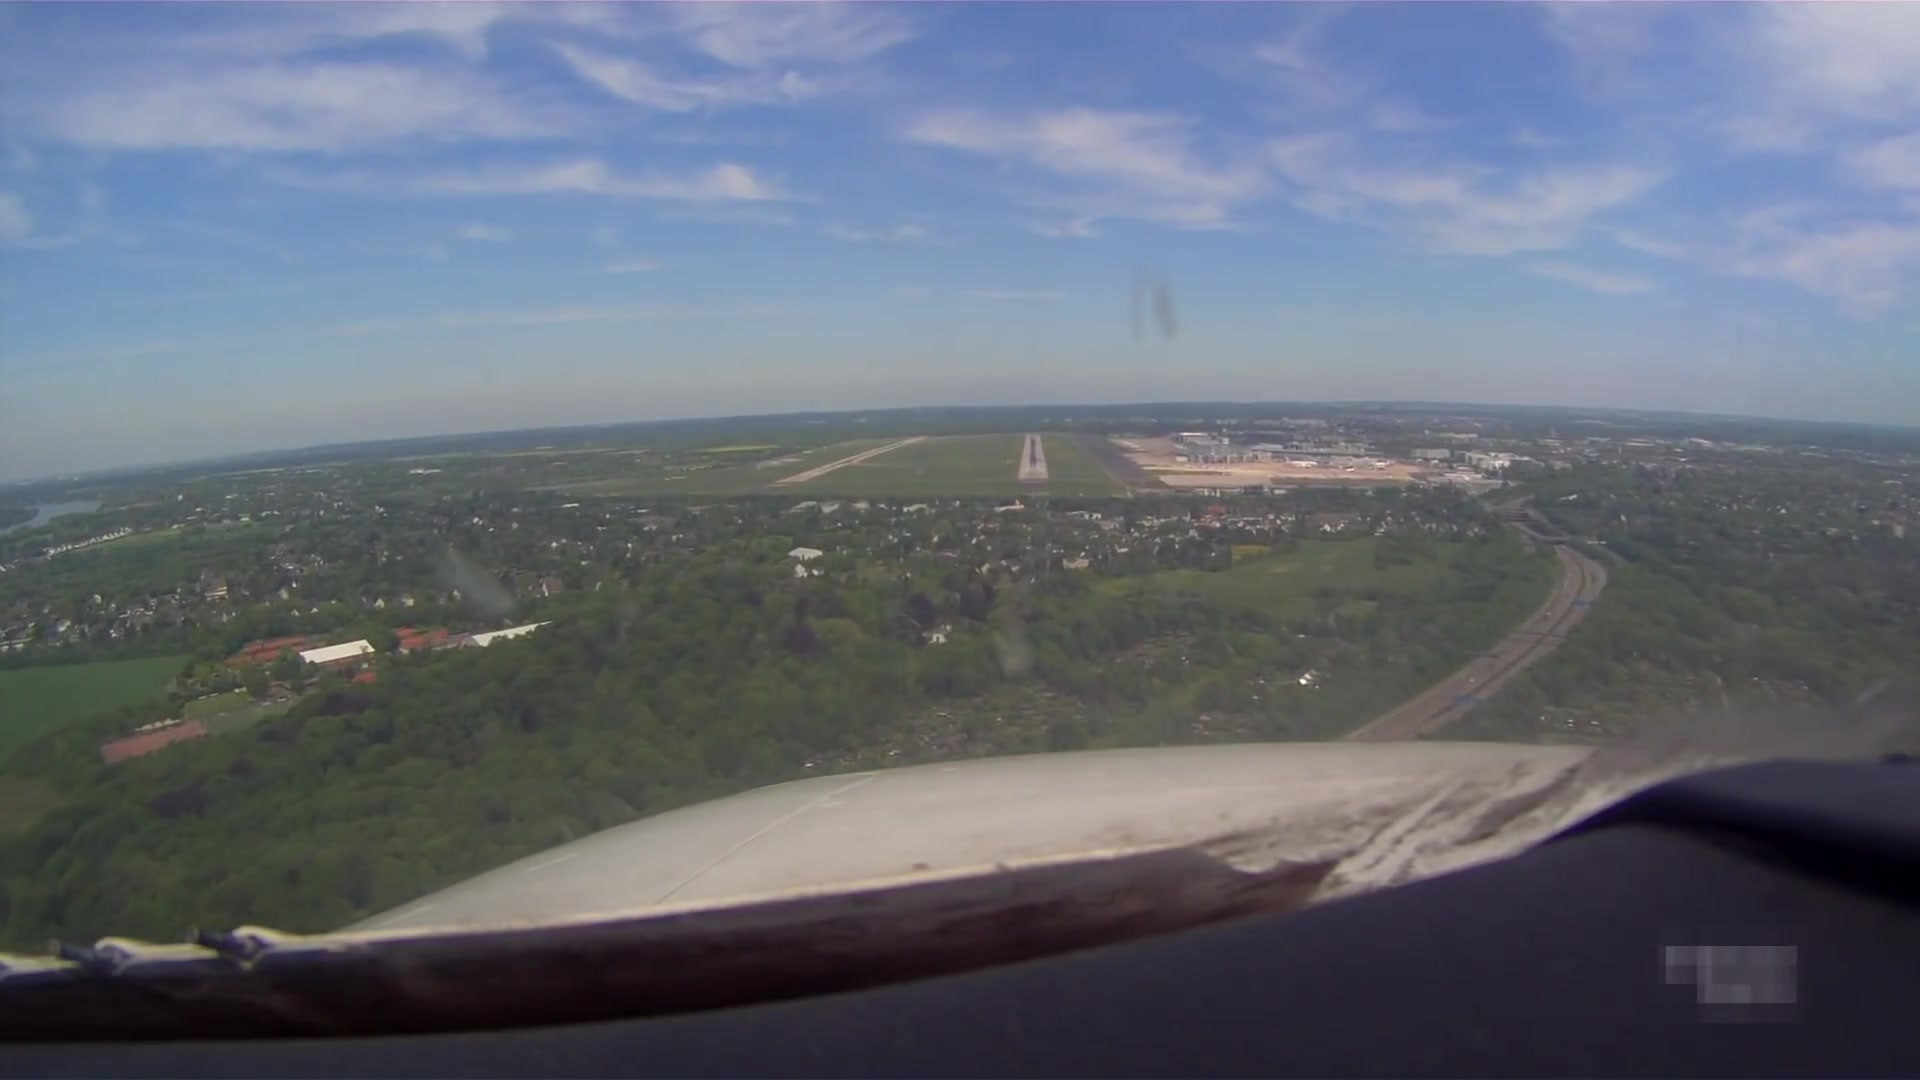runway: (775, 433, 927, 485), (1017, 431, 1050, 483)
